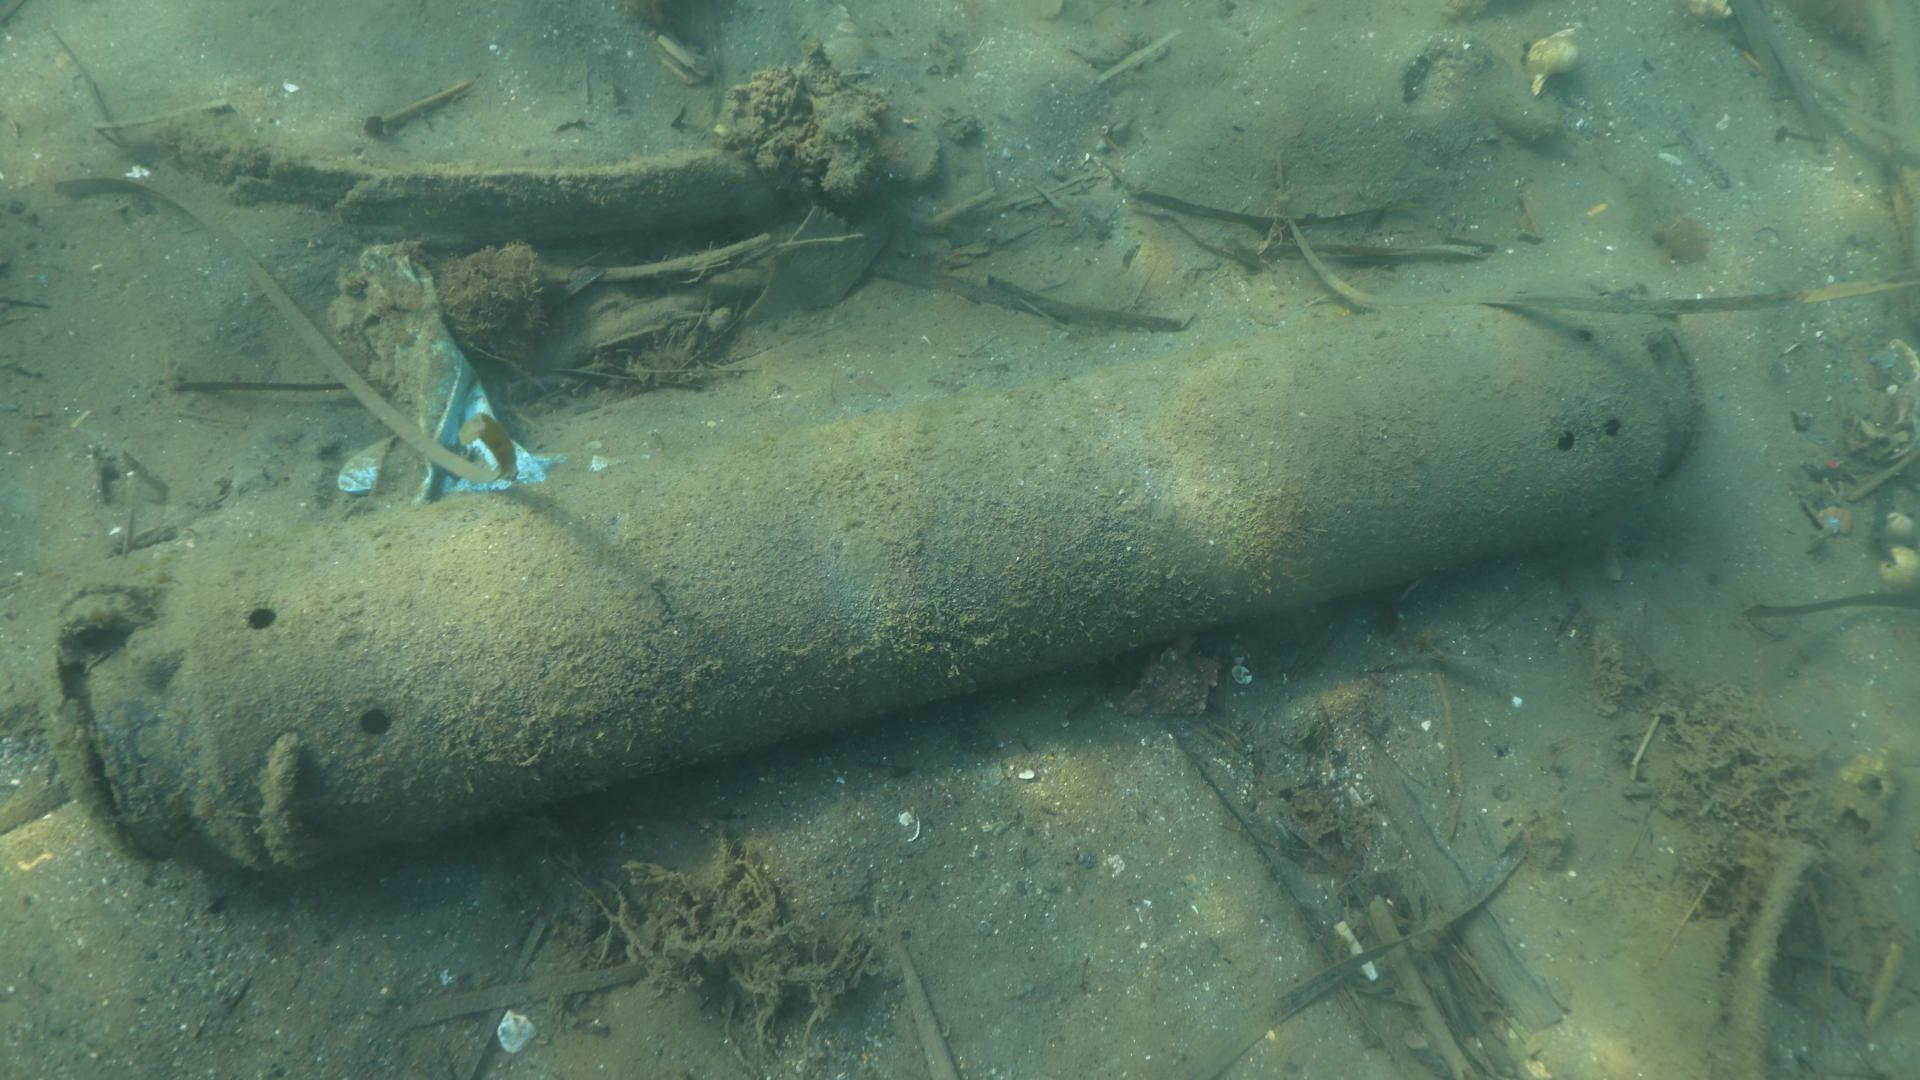eel fish trap: (49, 290, 1697, 877)
